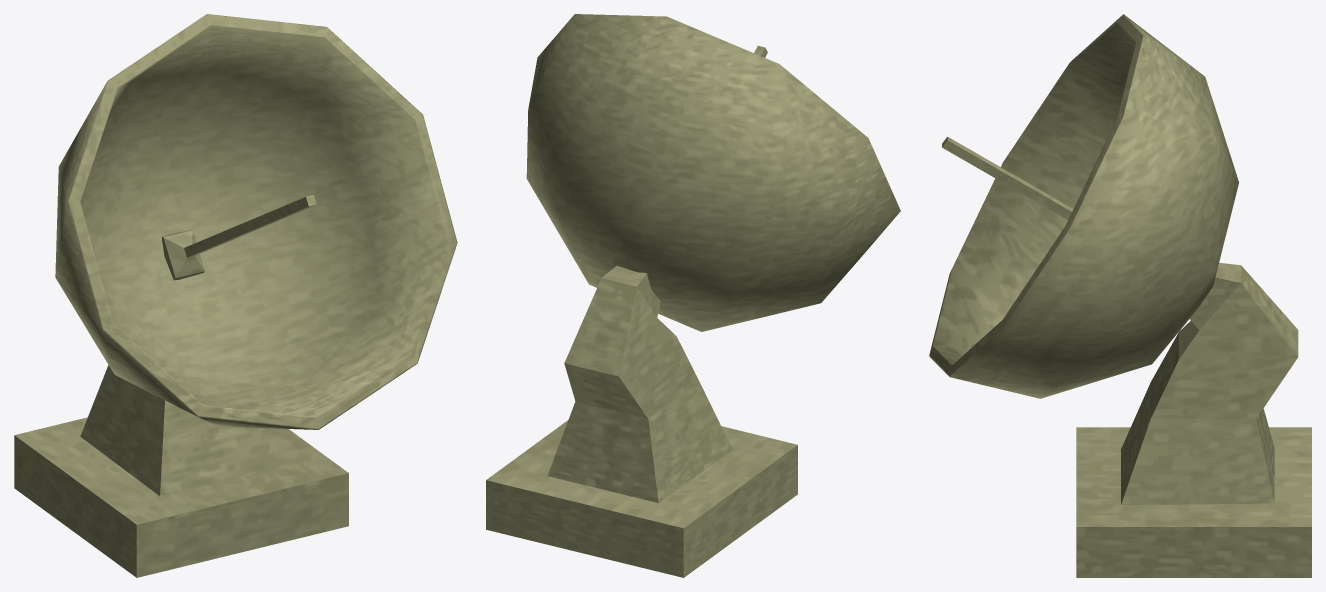
File: GroundSatellite_beveled_corners.obj
3 renders of one model, left to right at view 1: azimuth 30°, elevation 25°; view 2: azimuth 150°, elevation 25°; view 3: azimuth 270°, elevation 25°, orthographic. The views are drawn at different scales.
Visible parts, largest first — view 1: Satellite_Cube.001; view 2: Satellite_Cube.001; view 3: Satellite_Cube.001.
Part boxes in pixels (x1,y1,x2,y2): Satellite_Cube.001: (14,14,457,577); Satellite_Cube.001: (486,14,900,577); Satellite_Cube.001: (929,14,1311,577).
Bounding box in the file's own units: 0.9643 × 1.33 × 0.9361.
Materials: 1 (1 with a texture image).
